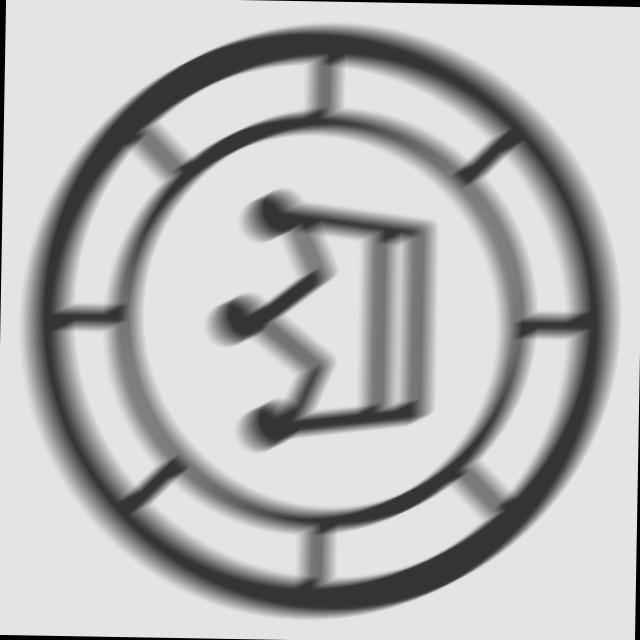coin: (11, 9, 638, 634)
